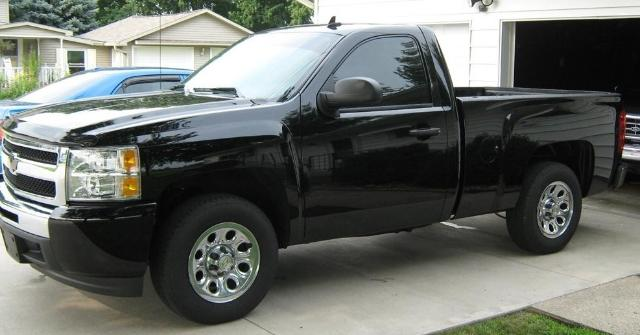pickup-truck: (0, 20, 622, 326)
